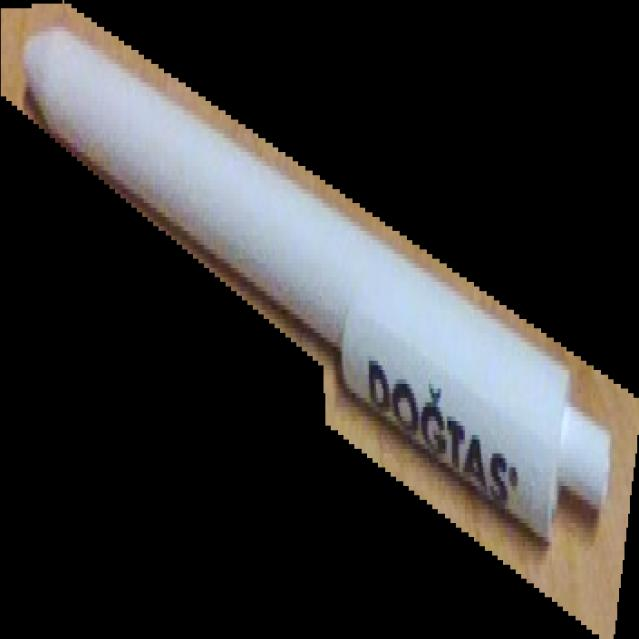white: (0, 1, 639, 639)
